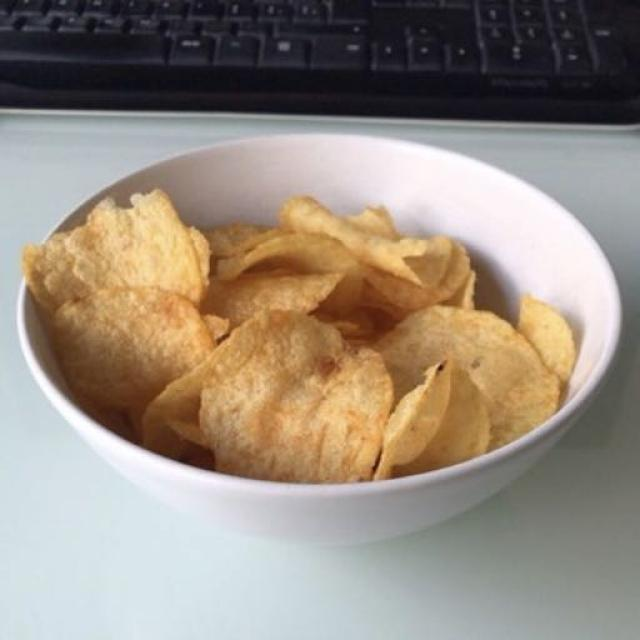crisps: (47, 189, 567, 477)
